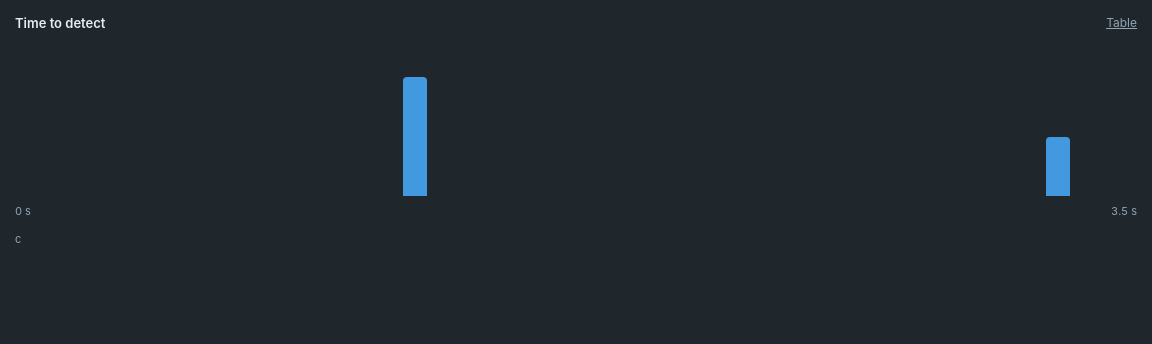
Test: DurationHistogram › shows a tooltip on focus and offers a table view
Focus the list item named "1 s–1.5 s: 2" at (415, 136), box [403, 77, 427, 196]
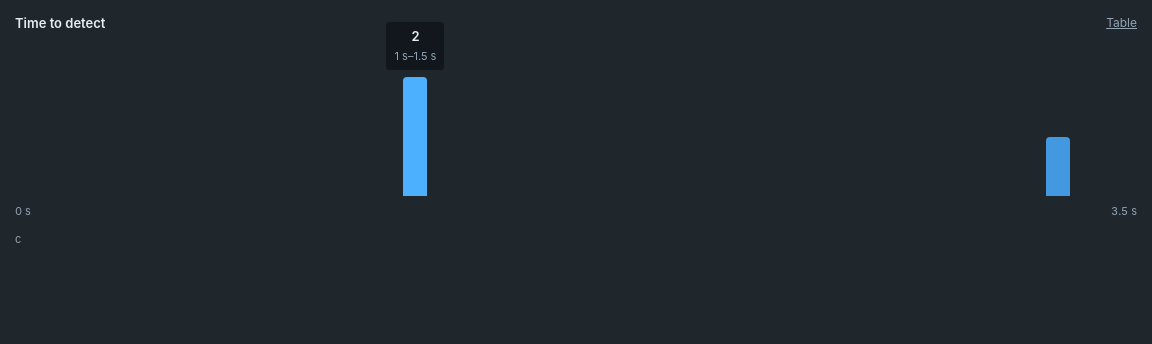
Check: the message shows "2", box [386, 21, 445, 71]
Click the button "Table".
click(1122, 23)  # box [1106, 13, 1137, 33]
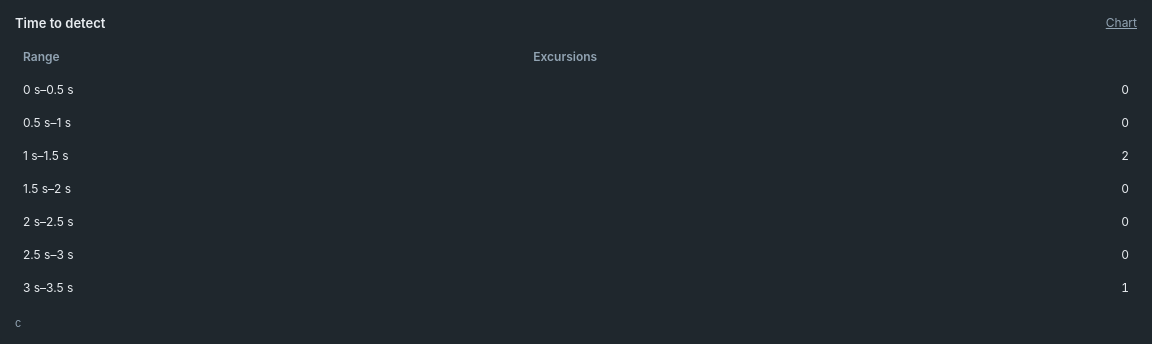
Check: the table is shown
